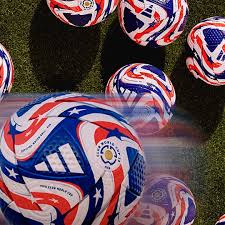football ball: (1, 93, 150, 225), (103, 61, 179, 136), (114, 1, 195, 46), (131, 173, 197, 225), (184, 13, 225, 86), (42, 1, 123, 30), (1, 38, 17, 105), (212, 210, 225, 225)
